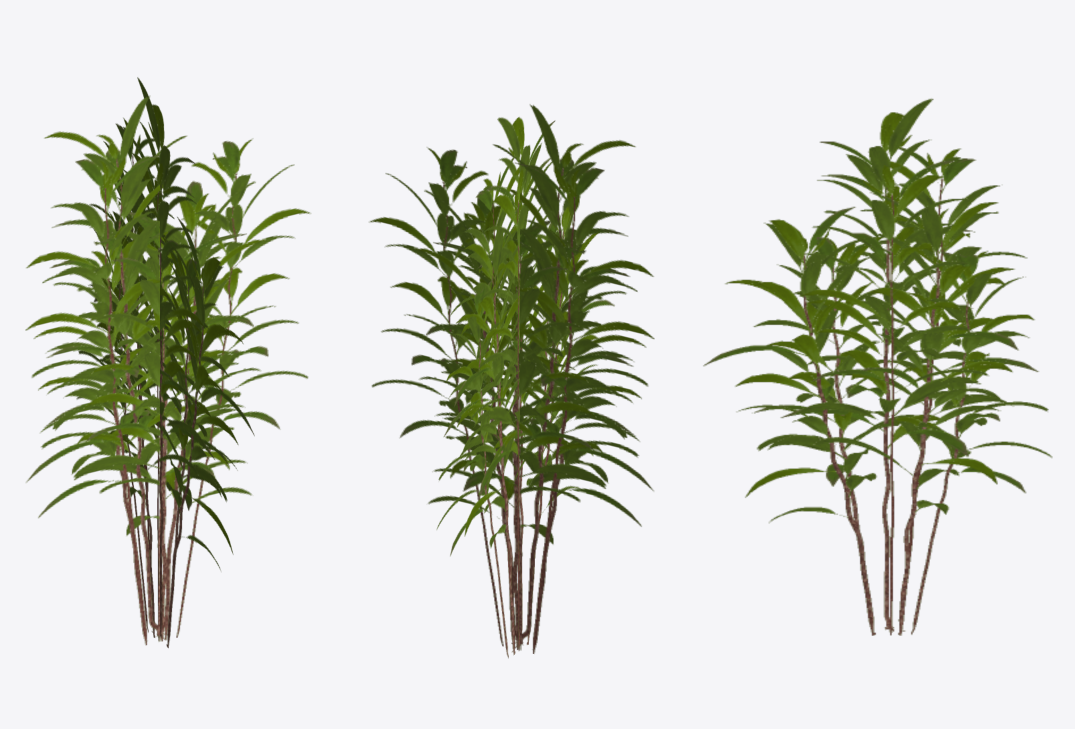
The model's file is CordylinePetiolaris.glb.
3 renders of one model, left to right at view 1: azimuth 30°, elevation 25°; view 2: azimuth 150°, elevation 25°; view 3: azimuth 270°, elevation 25°, orthographic. The views are drawn at different scales.
Parts seen in each view (by area): view 1: mesh__mat_billboard_7; view 2: mesh__mat_billboard_7; view 3: mesh__mat_billboard_7.
Boxes of the visible parts, <box> form: mesh__mat_billboard_7: <box>25,77,310,647</box>; mesh__mat_billboard_7: <box>369,104,654,658</box>; mesh__mat_billboard_7: <box>703,98,1052,635</box>.
Bounding box in the file's own units: 2.32 × 4.01 × 2.41.
1 material, 1 textured.
